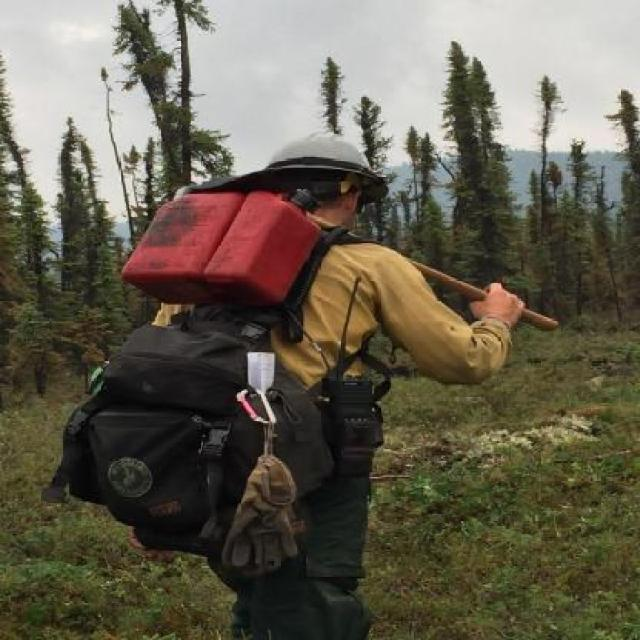backpack: (37, 312, 338, 580)
